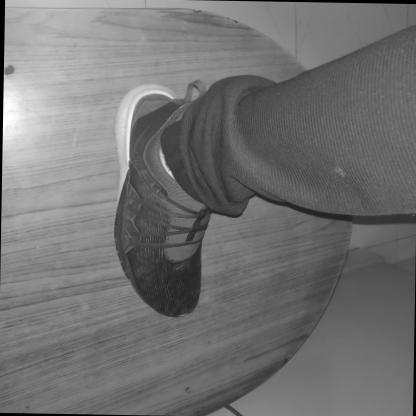ankle: (153, 145, 158, 150)
heel: (149, 86, 154, 92)
pinky: (159, 302, 163, 307)
right_foot: (110, 84, 212, 318)
toe: (194, 290, 198, 295)
